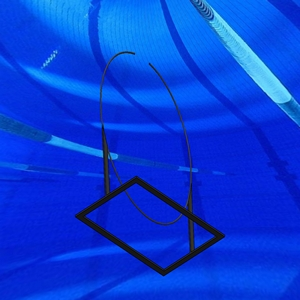circle: (74, 49, 227, 277)
